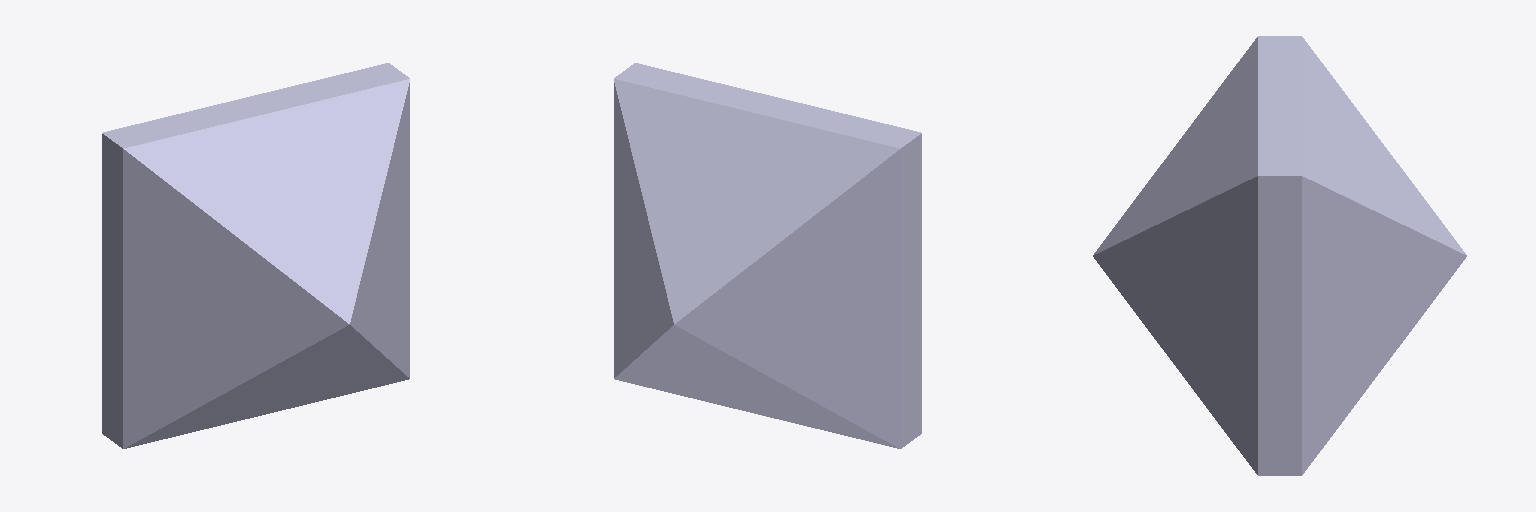
Rendered from zircon.obj.
3 views of the same model, side by side, from view 1: azimuth 30°, elevation 25°; view 2: azimuth 150°, elevation 25°; view 3: azimuth 270°, elevation 25° (orthographic).
Bounding box in the file's own units: 2 × 2 × 2.26.